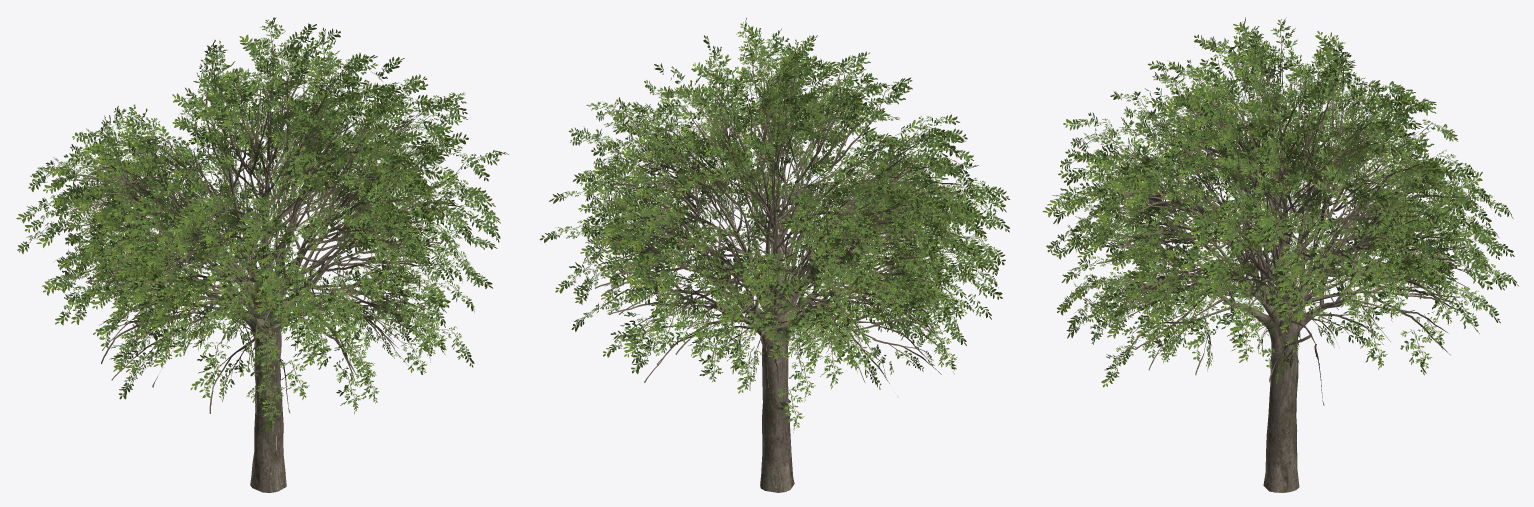
File: tree-pepper.glb
The picture shows the model from 3 angles, left to right: view 1: azimuth 30°, elevation 25°; view 2: azimuth 150°, elevation 25°; view 3: azimuth 270°, elevation 25°; orthographic projection. The views are drawn at different scales.
Visible parts, largest first — view 1: tree-pepper; view 2: tree-pepper; view 3: tree-pepper.
Part boxes in pixels (x1,y1,x2,y2): tree-pepper: [16, 17, 508, 492]; tree-pepper: [539, 18, 1009, 492]; tree-pepper: [1042, 17, 1518, 492].
Bounding box in the file's own units: 5.79 × 6 × 5.59.
Materials: 3 (3 with a texture image).
